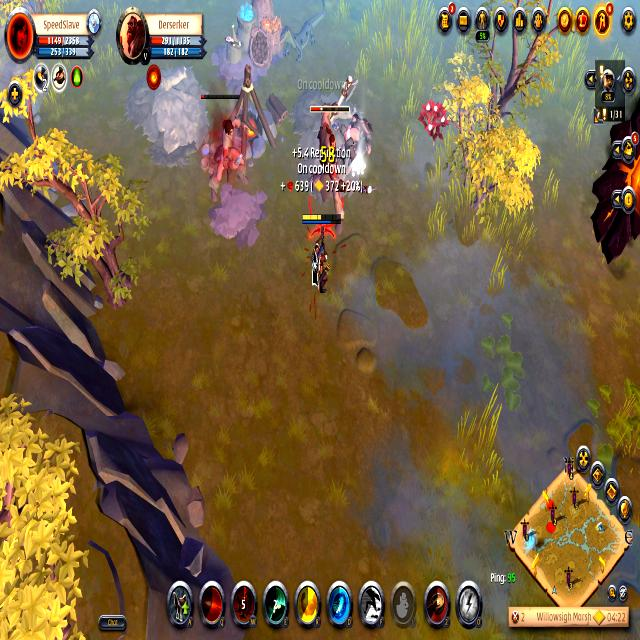hide: (416, 90, 454, 156)
ore: (198, 88, 255, 202), (302, 101, 352, 229), (278, 0, 331, 68)
red: (300, 209, 342, 294)
tree: (349, 155, 367, 184)
